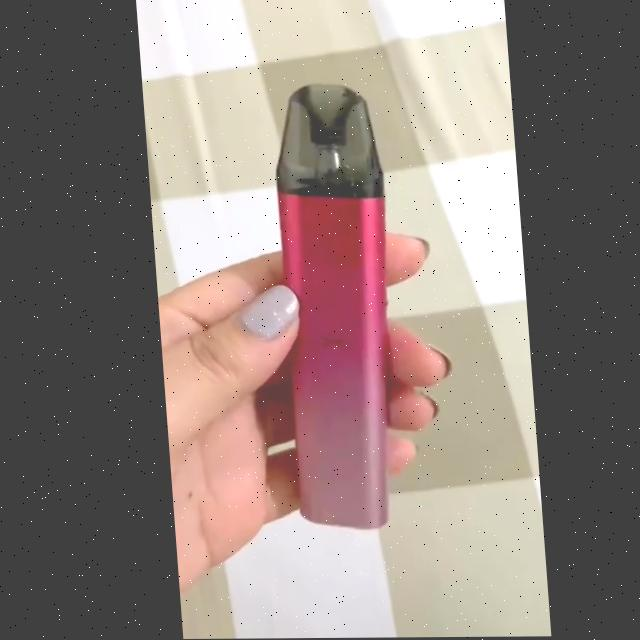vape: (267, 85, 404, 531)
